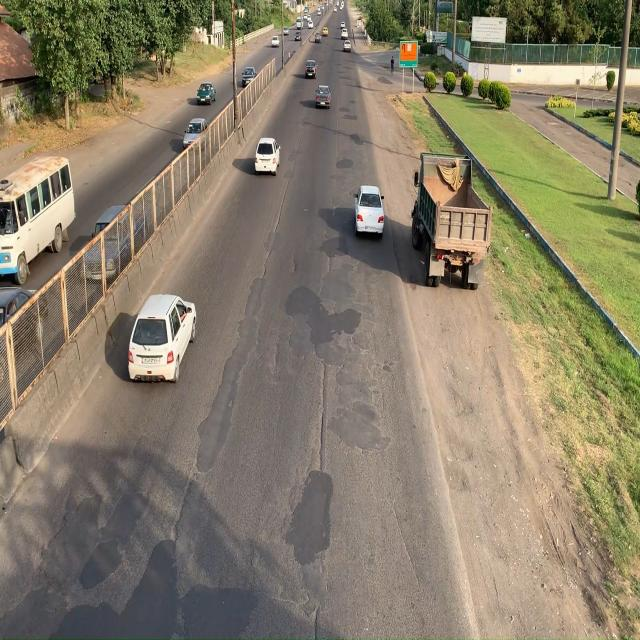Bus: (0, 154, 71, 286)
Truck: (411, 150, 494, 294)
cars: (129, 296, 197, 382), (355, 184, 386, 236), (254, 136, 280, 171)
